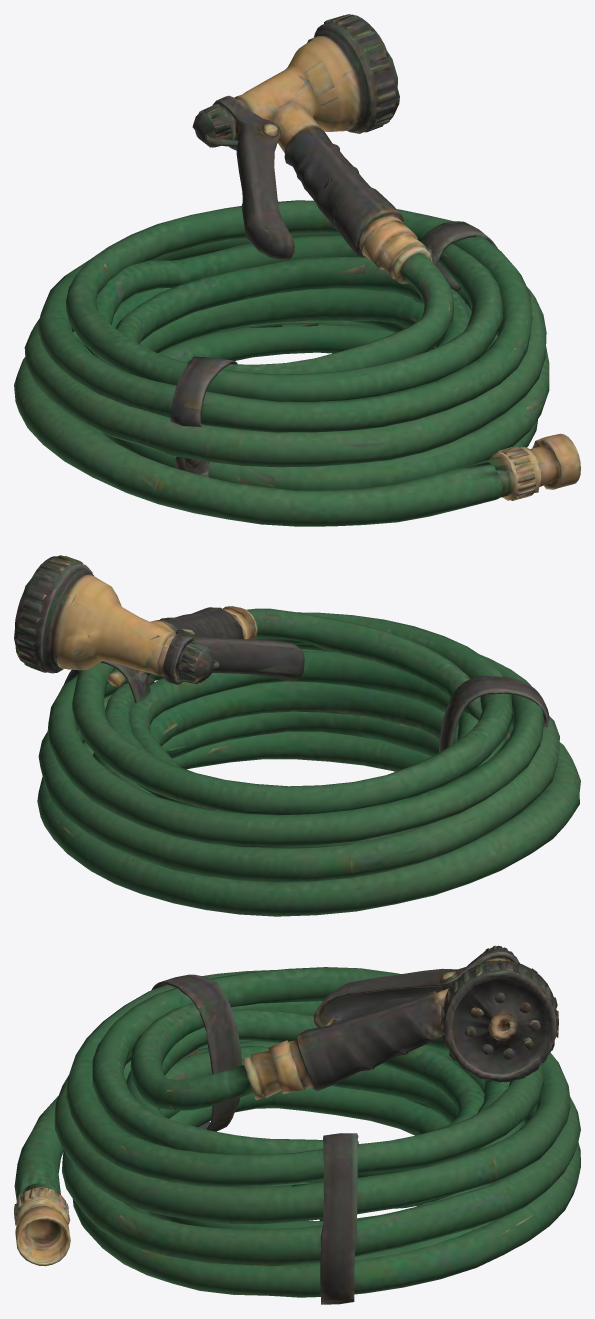
Rendered from vesiletku.glb.
3 views of the same model, one above another, from view 1: azimuth 30°, elevation 25°; view 2: azimuth 150°, elevation 25°; view 3: azimuth 270°, elevation 25° (orthographic). The views are drawn at different scales.
Bounding box in the file's own units: 0.4889 × 0.3 × 0.4879.
1 material, 1 textured.
